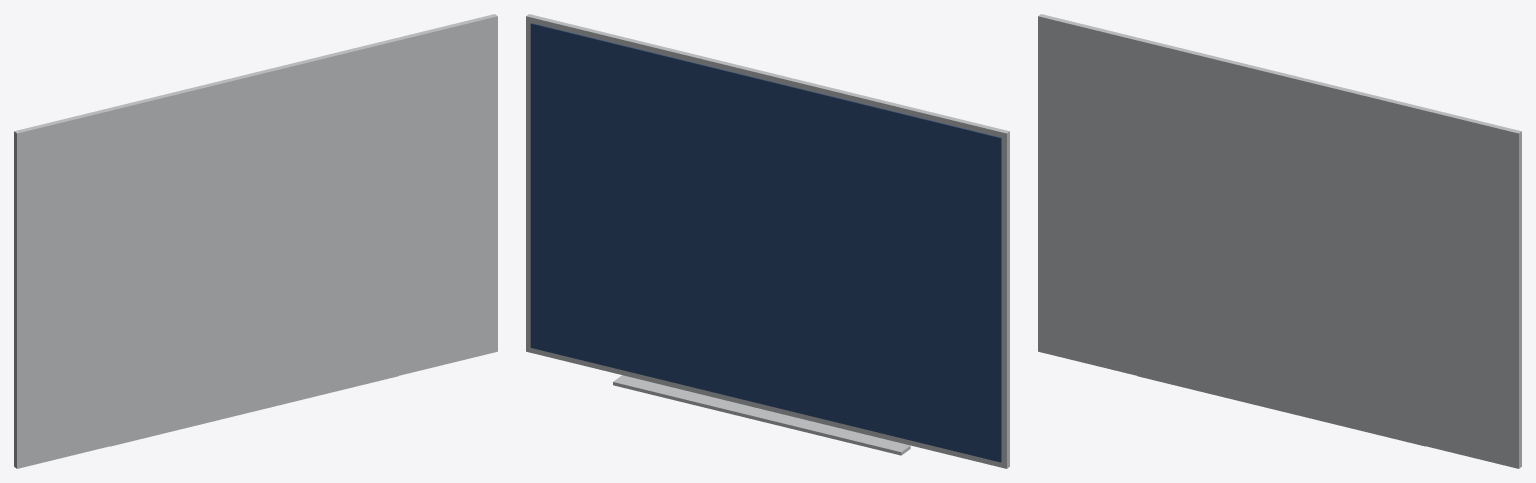
Rendered from school.board.pinboard.glb.
3 views of the same model, side by side, from view 1: azimuth 30°, elevation 25°; view 2: azimuth 150°, elevation 25°; view 3: azimuth 330°, elevation 25° (orthographic).
Visible parts, largest first — view 1: main__aluminium; view 2: main__fabric_blue, main__aluminium; view 3: main__aluminium.
Part boxes in pixels (x1,y1,x2,y2): main__aluminium: (14, 14, 497, 468); main__fabric_blue: (530, 23, 1001, 462); main__aluminium: (526, 14, 1009, 468); main__aluminium: (1038, 14, 1521, 468).
Size of the model in its own units: 1.8 by 1.21 by 0.08.
